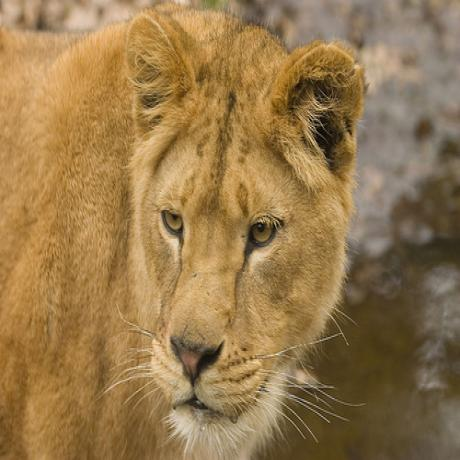Lion: (0, 3, 371, 460)
